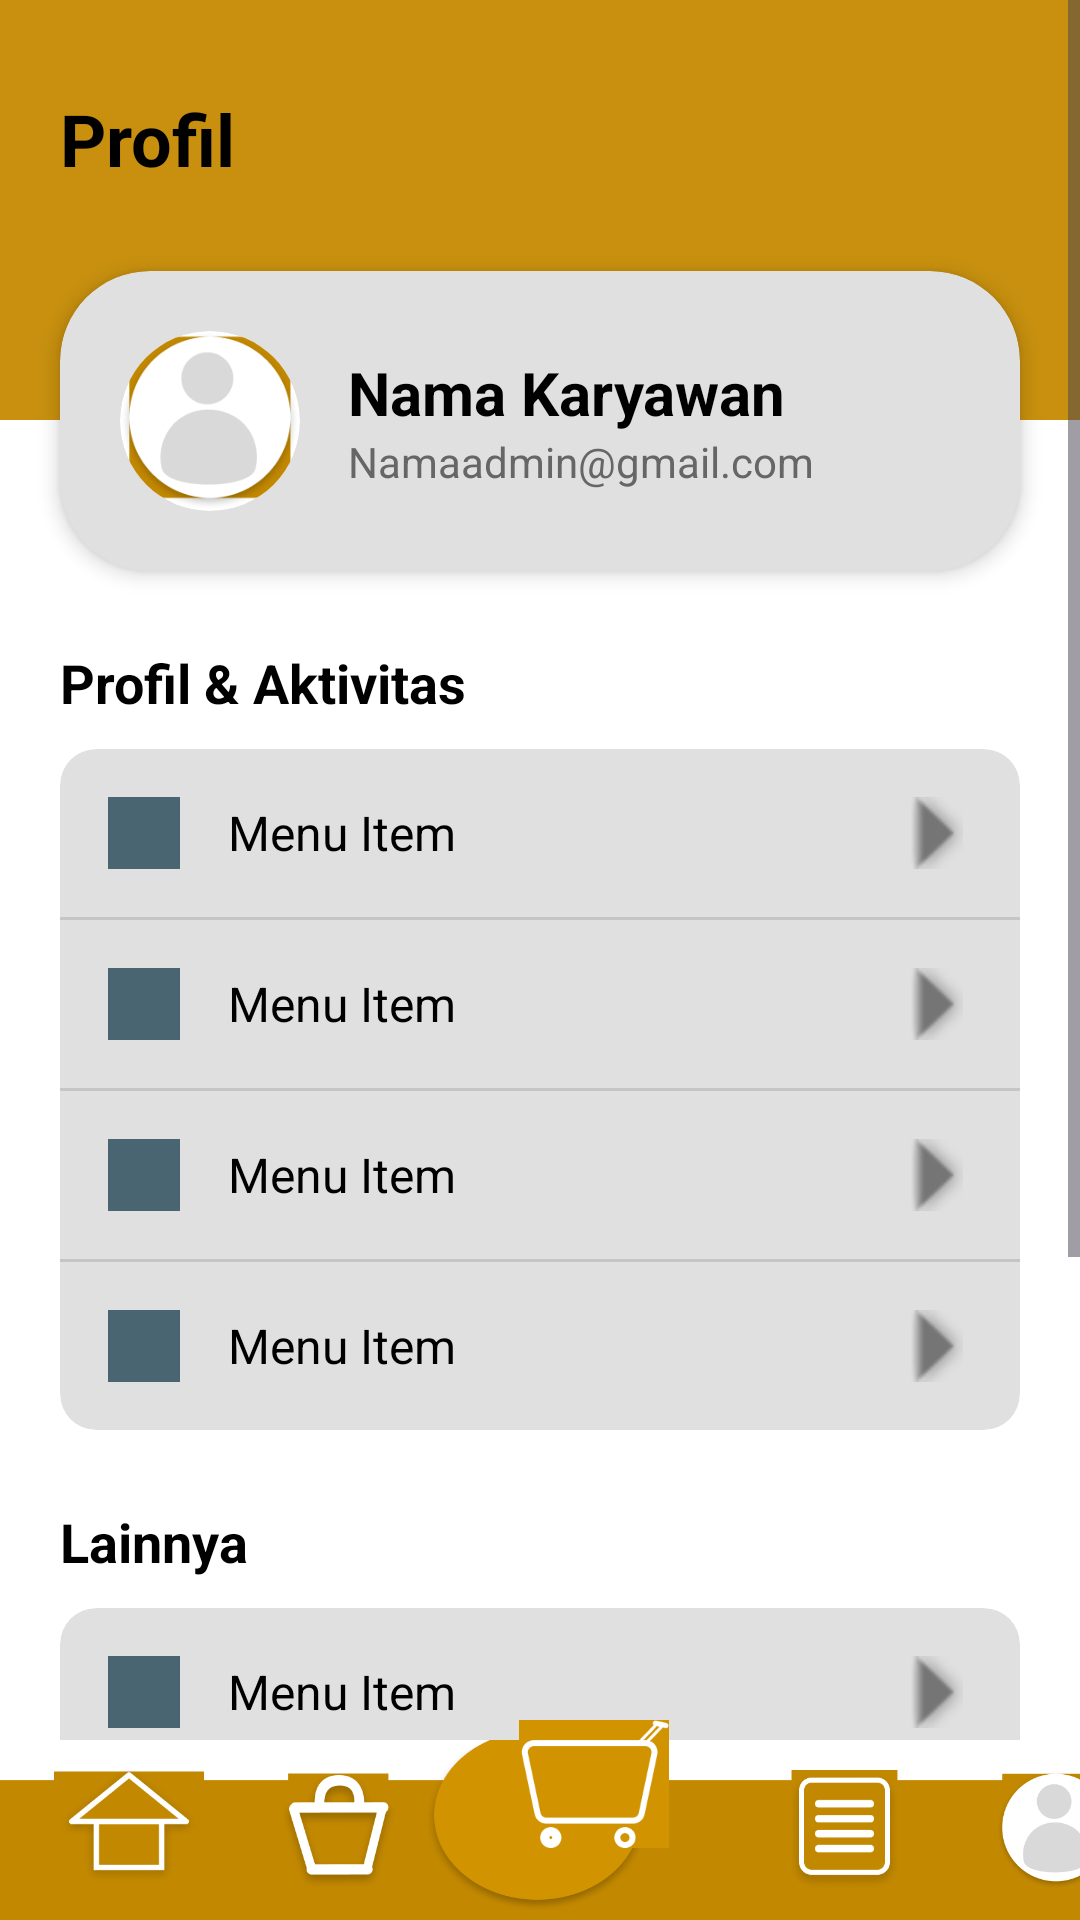

Where to tap for icons on this 1080x1920 app screen, as (x=x, y=y):
belanja: (x=339, y=1827)
home: (x=129, y=1817)
keranjang: (x=595, y=1784)
riwayat: (x=844, y=1826)
